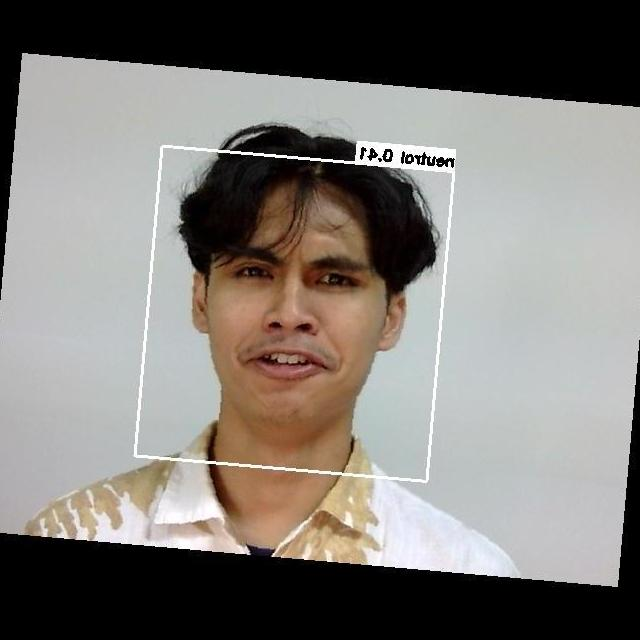Fear: (192, 220, 390, 410)
